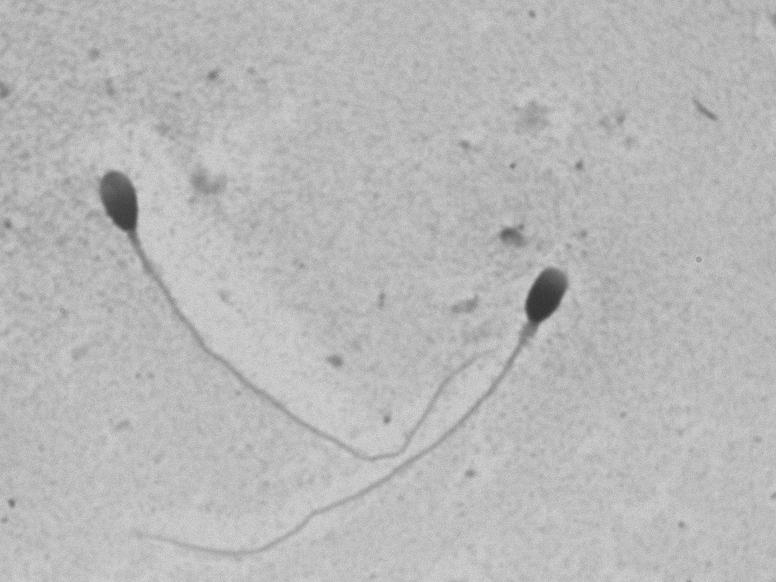Normal: (109, 237, 625, 566), (73, 146, 506, 479)
